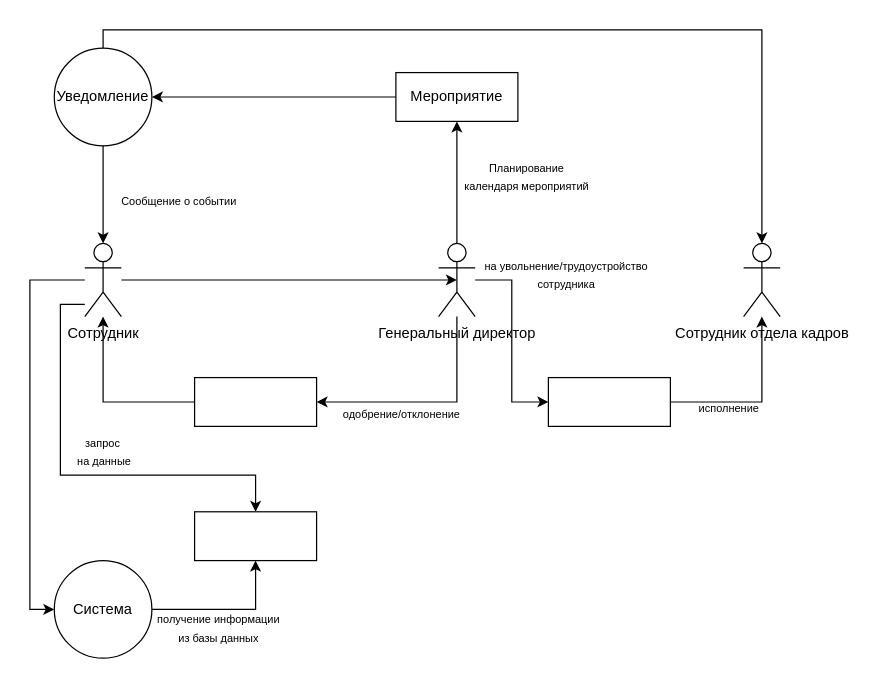
This 870x680 diagram has some shape labels left out. The centre of each missing label's shape, as x and y in pixels:
"Выписки и справки" belongs at (x=255, y=536).
"Заявка" belongs at (x=255, y=401).
"Приказ" belongs at (x=608, y=401).
